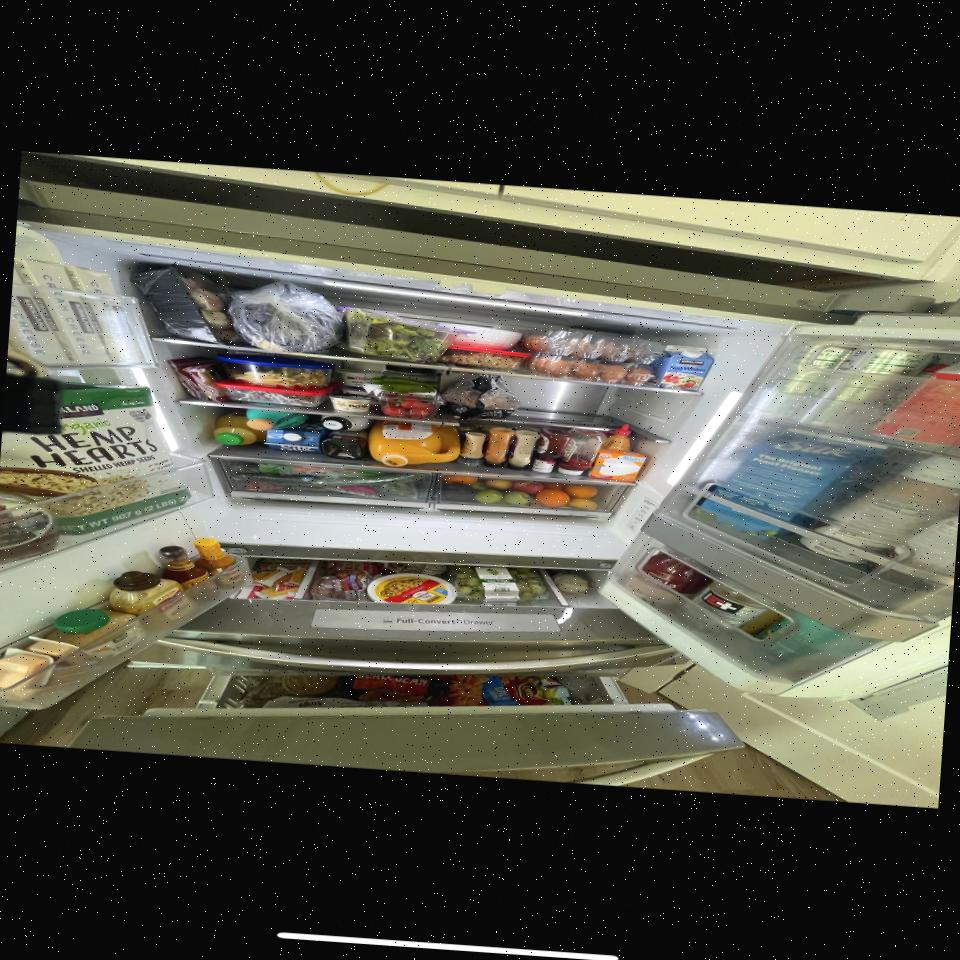Huevos: (521, 329, 658, 365), (530, 352, 654, 386)
Limón: (568, 498, 598, 509)
Manzana: (475, 488, 504, 505), (503, 491, 531, 506), (514, 480, 544, 494)
Pepino: (230, 460, 428, 494), (371, 376, 434, 388), (378, 382, 436, 394)
Yogur: (338, 369, 384, 389)
